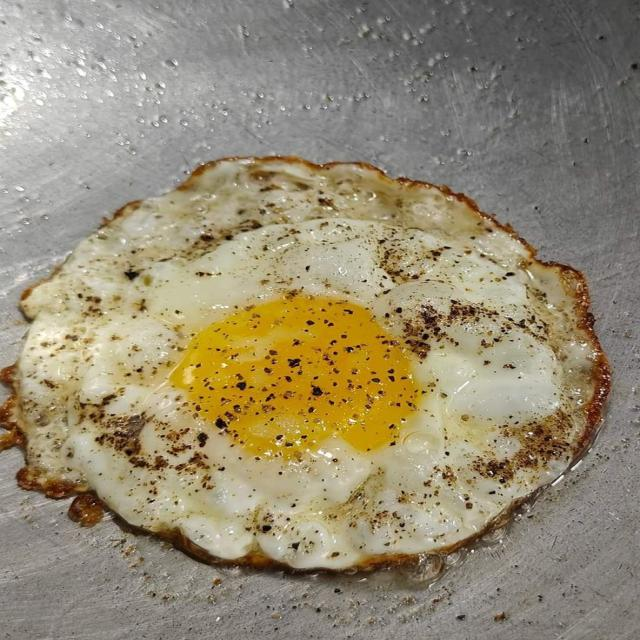fryed egg: (11, 159, 607, 569)
